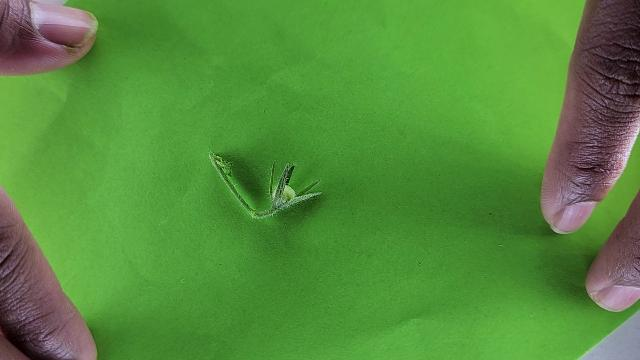Fruit Bud: (265, 161, 323, 217)
